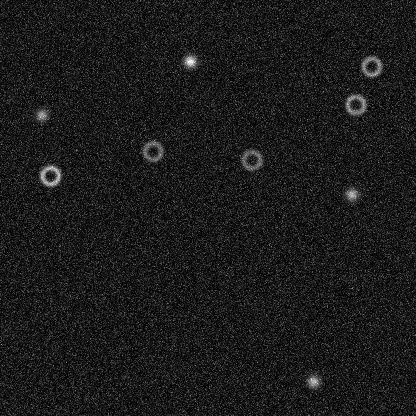Ring: (343, 92, 367, 116), (140, 139, 164, 163), (359, 54, 383, 78), (239, 147, 263, 171), (38, 163, 62, 187)
Spot: (181, 53, 197, 69), (305, 373, 321, 389), (343, 186, 359, 202), (33, 106, 49, 122)
